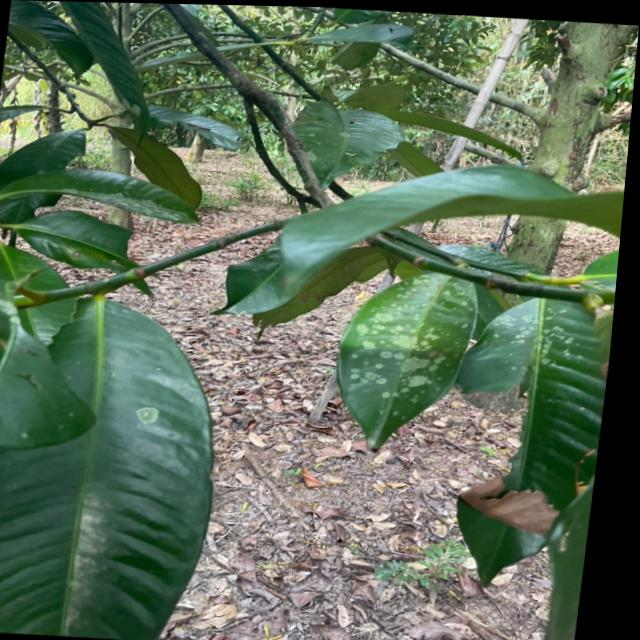Leaf Spot: (346, 273, 473, 413), (499, 281, 604, 388), (136, 394, 181, 443)
